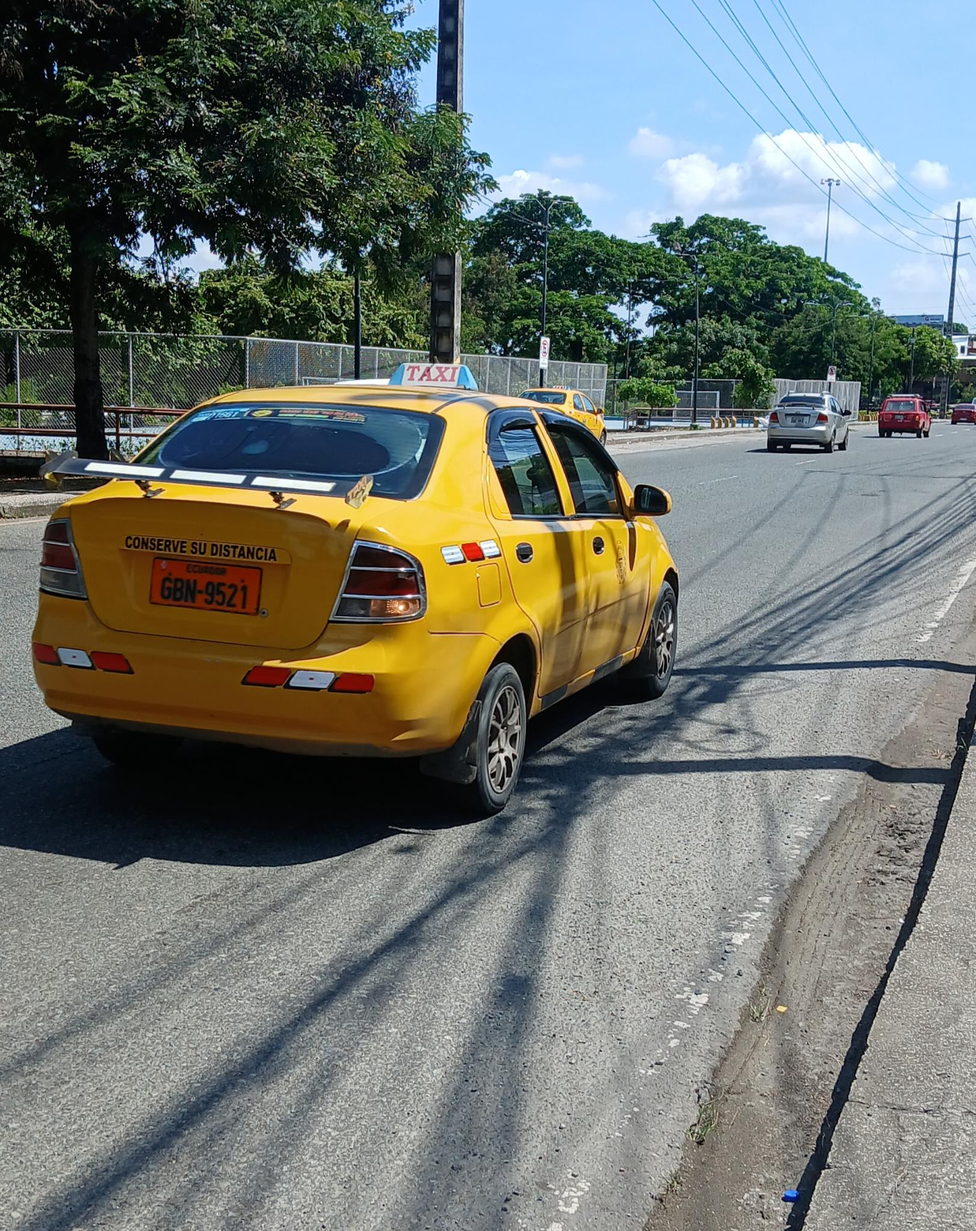license_plate: (148, 557, 262, 616), (790, 416, 810, 423), (895, 414, 905, 420)
